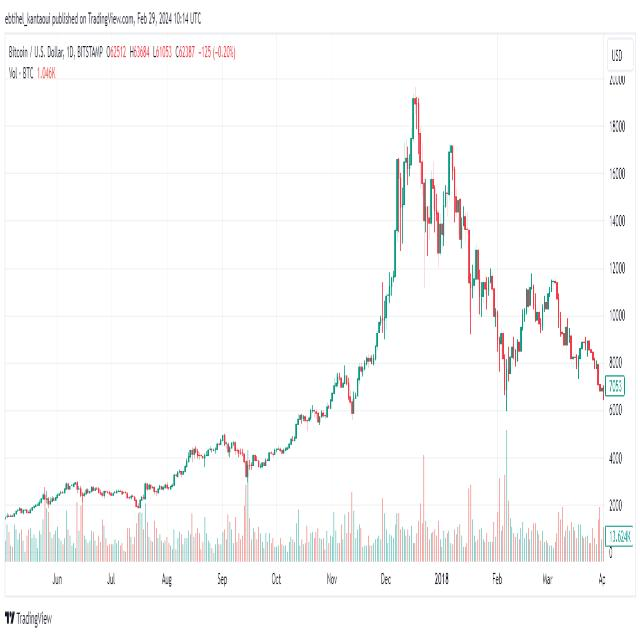Head-Shoulders: (391, 84, 444, 258), (492, 264, 532, 416)
